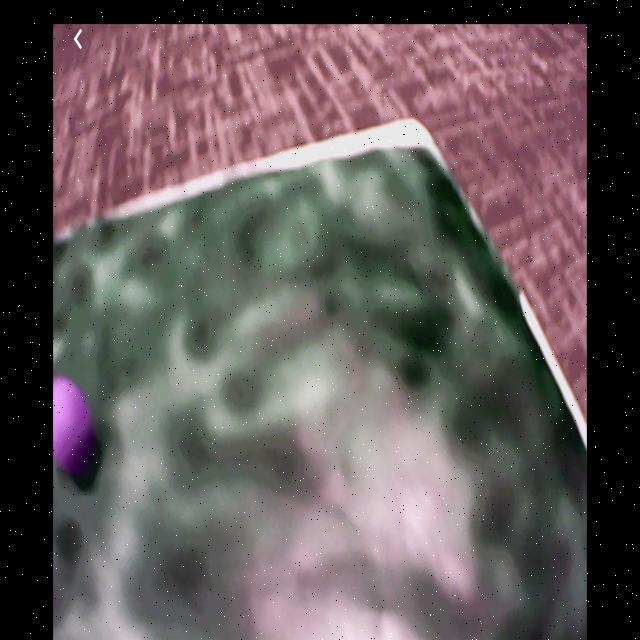ball: (55, 376, 90, 470)
